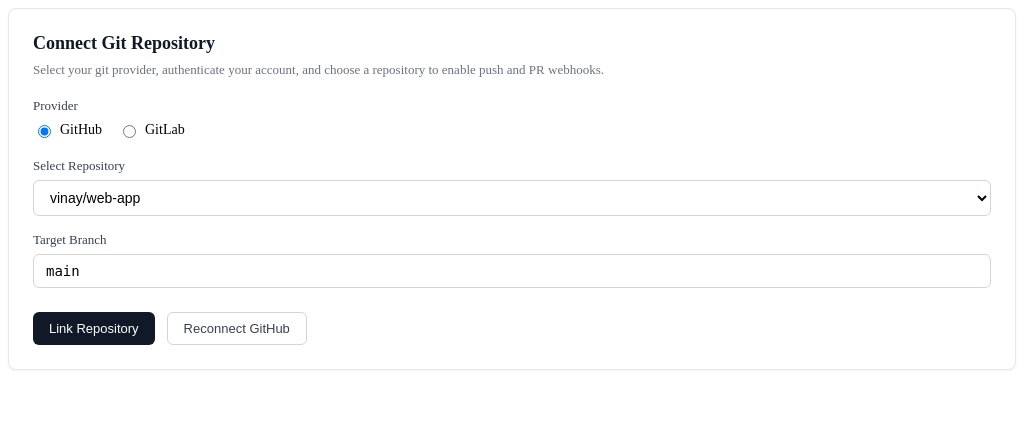
Scenario: SourceConnectionCard › handles connection and linking errors gracefully
Click the button "Link Repository" at [94, 328], box [33,312,155,345]
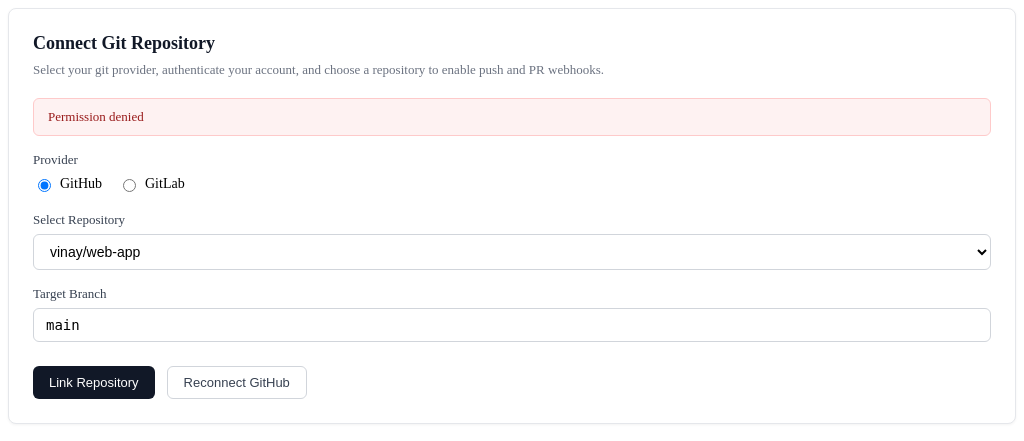
Check: the text "Permission denied" is shown, box [33,98,991,136]
